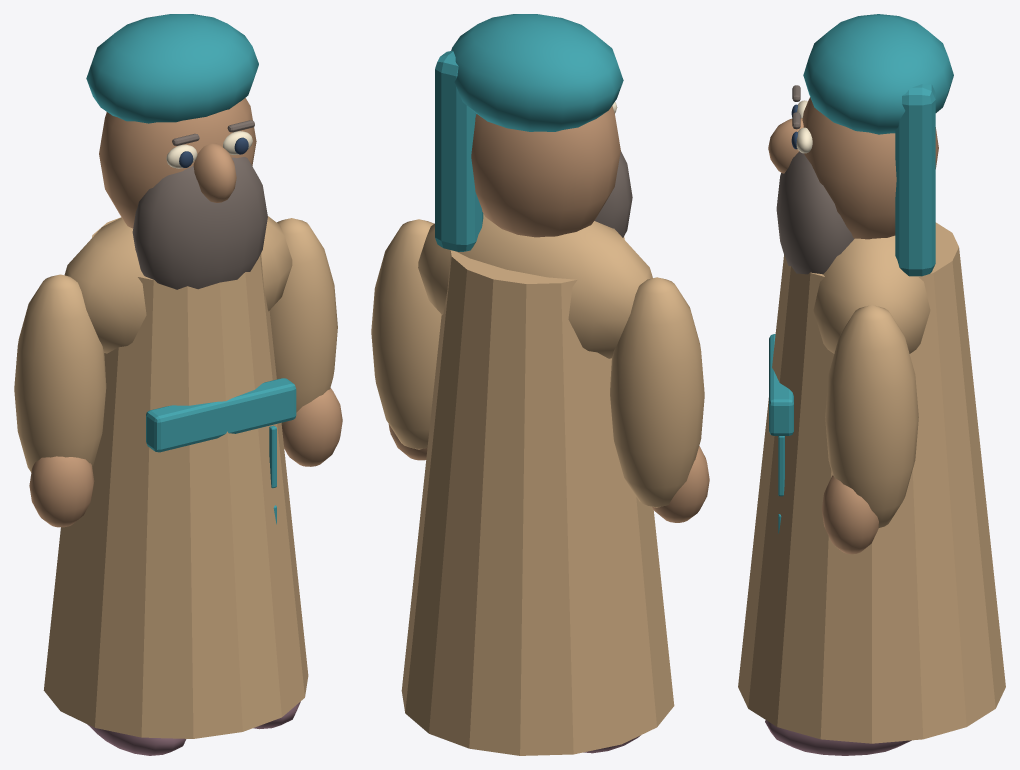
The model's file is worker.glb.
The picture shows the model from 3 angles, left to right: view 1: azimuth 30°, elevation 25°; view 2: azimuth 150°, elevation 25°; view 3: azimuth 270°, elevation 25°; orthographic projection. The views are drawn at different scales.
Visible parts, largest first — view 1: Robe.003, Head cloth.002, ArmL.003, Beard.002, ArmR.003, Shoulders.003, Head.003, Sash.003, Hand.006, Hand.007, Nose.003, FootL.003; view 2: Robe.003, ArmL.003, Head cloth.002, Head.003, Shoulders.003, ArmR.003, Cloth tail.002, Hand.006, Beard.002; view 3: Robe.003, ArmR.003, Head cloth.002, Head.003, Shoulders.003, Cloth tail.002, Beard.002, Hand.007, FootR.003, Sash.003, Nose.003.
Boxes of the visible parts, x1,y1,x2,y2 form: Robe.003: [43, 217, 308, 738]; Head cloth.002: [86, 14, 258, 123]; ArmL.003: [14, 274, 106, 472]; Beard.002: [132, 157, 267, 289]; ArmR.003: [269, 218, 337, 424]; Shoulders.003: [64, 216, 292, 353]; Head.003: [99, 98, 256, 228]; Sash.003: [146, 378, 296, 452]; Hand.006: [29, 456, 94, 527]; Hand.007: [282, 388, 342, 466]; Nose.003: [193, 143, 236, 202]; FootL.003: [87, 724, 186, 755]; Robe.003: [401, 237, 674, 755]; ArmL.003: [610, 277, 704, 507]; Head cloth.002: [451, 14, 623, 131]; Head.003: [471, 106, 620, 237]; Shoulders.003: [418, 214, 652, 358]; ArmR.003: [371, 219, 441, 449]; Cloth tail.002: [435, 50, 483, 251]; Hand.006: [652, 446, 709, 522]; Beard.002: [594, 151, 632, 237]; Robe.003: [738, 222, 1005, 743]; ArmR.003: [825, 305, 918, 527]; Head cloth.002: [803, 14, 953, 134]; Head.003: [802, 97, 938, 239]; Shoulders.003: [813, 235, 930, 353]; Cloth tail.002: [895, 84, 935, 276]; Beard.002: [776, 151, 854, 274]; Hand.007: [821, 475, 878, 554]; FootR.003: [765, 720, 911, 755]; Sash.003: [769, 334, 793, 435]; Nose.003: [768, 118, 803, 173].
Size of the model in its own units: 1.08 by 2.3 by 0.8.
